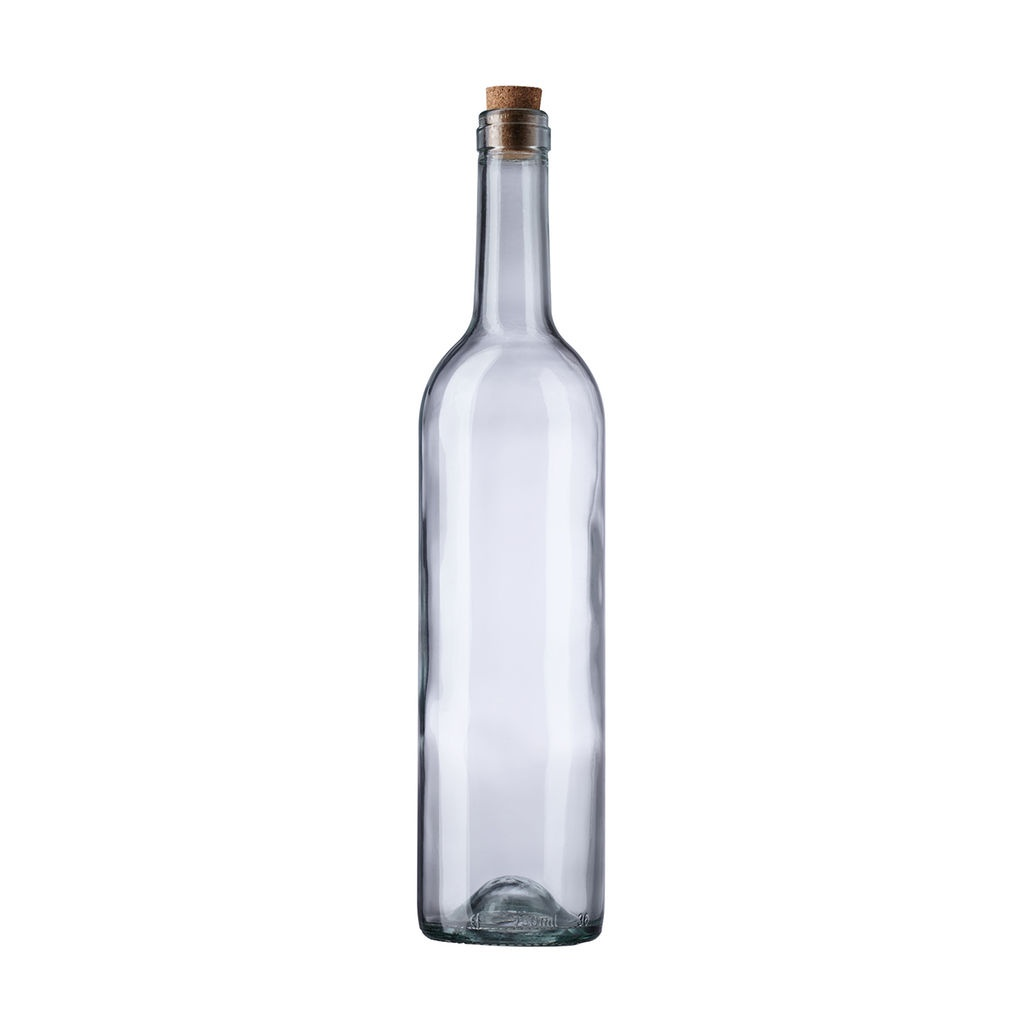emptybottle: (418, 84, 609, 945)
